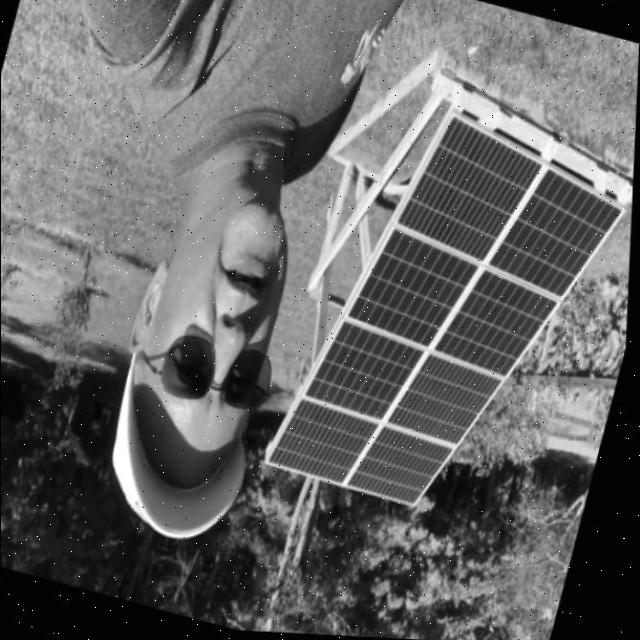Normal Solar Panel: (267, 88, 637, 544)
